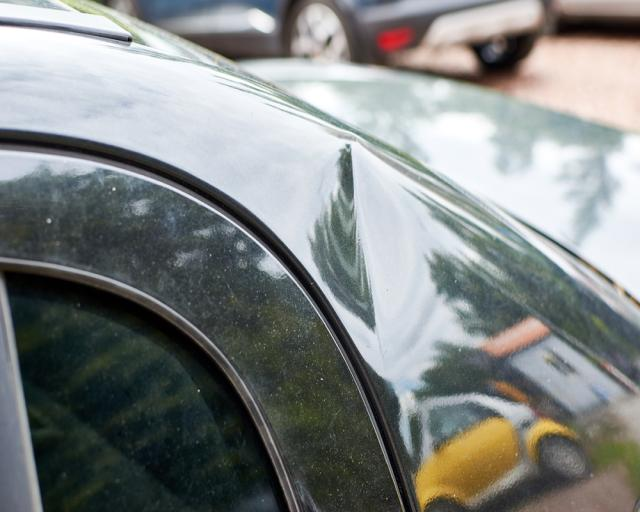dent: (309, 141, 440, 372)
